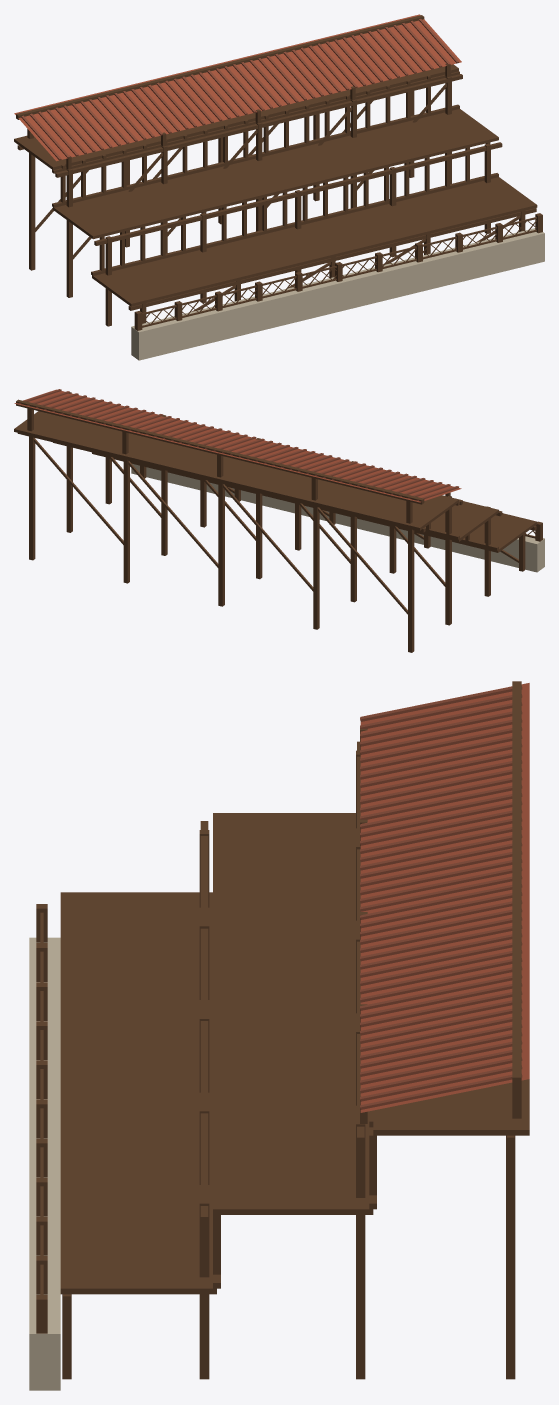
The model's file is rome_vatican_stand.glb.
3 views of the same model, one above another, from view 1: azimuth 30°, elevation 25°; view 2: azimuth 150°, elevation 25°; view 3: azimuth 270°, elevation 25° (orthographic). The views are drawn at different scales.
Parts seen in each view (by area): view 1: rome_vatican_stand; view 2: rome_vatican_stand; view 3: rome_vatican_stand.
Boxes of the visible parts, x1=… form: rome_vatican_stand: x1=14, y1=14, x2=544, y2=360; rome_vatican_stand: x1=14, y1=389, x2=544, y2=652; rome_vatican_stand: x1=29, y1=681, x2=529, y2=1390.
Size of the model in its own units: 30 by 11.05 by 16.
